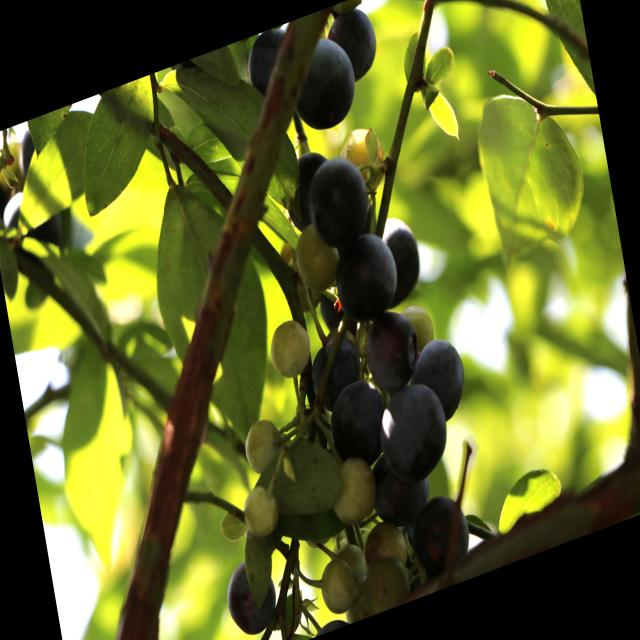blueberry: (370, 372, 450, 492), (284, 27, 362, 142), (324, 222, 400, 332), (401, 483, 478, 584), (301, 144, 373, 248), (322, 370, 390, 474), (367, 440, 437, 531), (411, 330, 471, 429), (358, 306, 420, 398), (222, 547, 282, 640), (374, 205, 428, 308), (241, 22, 300, 112), (279, 140, 337, 230), (306, 330, 367, 413), (326, 3, 383, 88)
blueberry-unripe: (315, 538, 373, 616), (327, 452, 378, 529), (290, 218, 338, 292), (266, 311, 314, 384), (240, 412, 287, 481), (344, 119, 388, 186), (238, 480, 284, 544)
